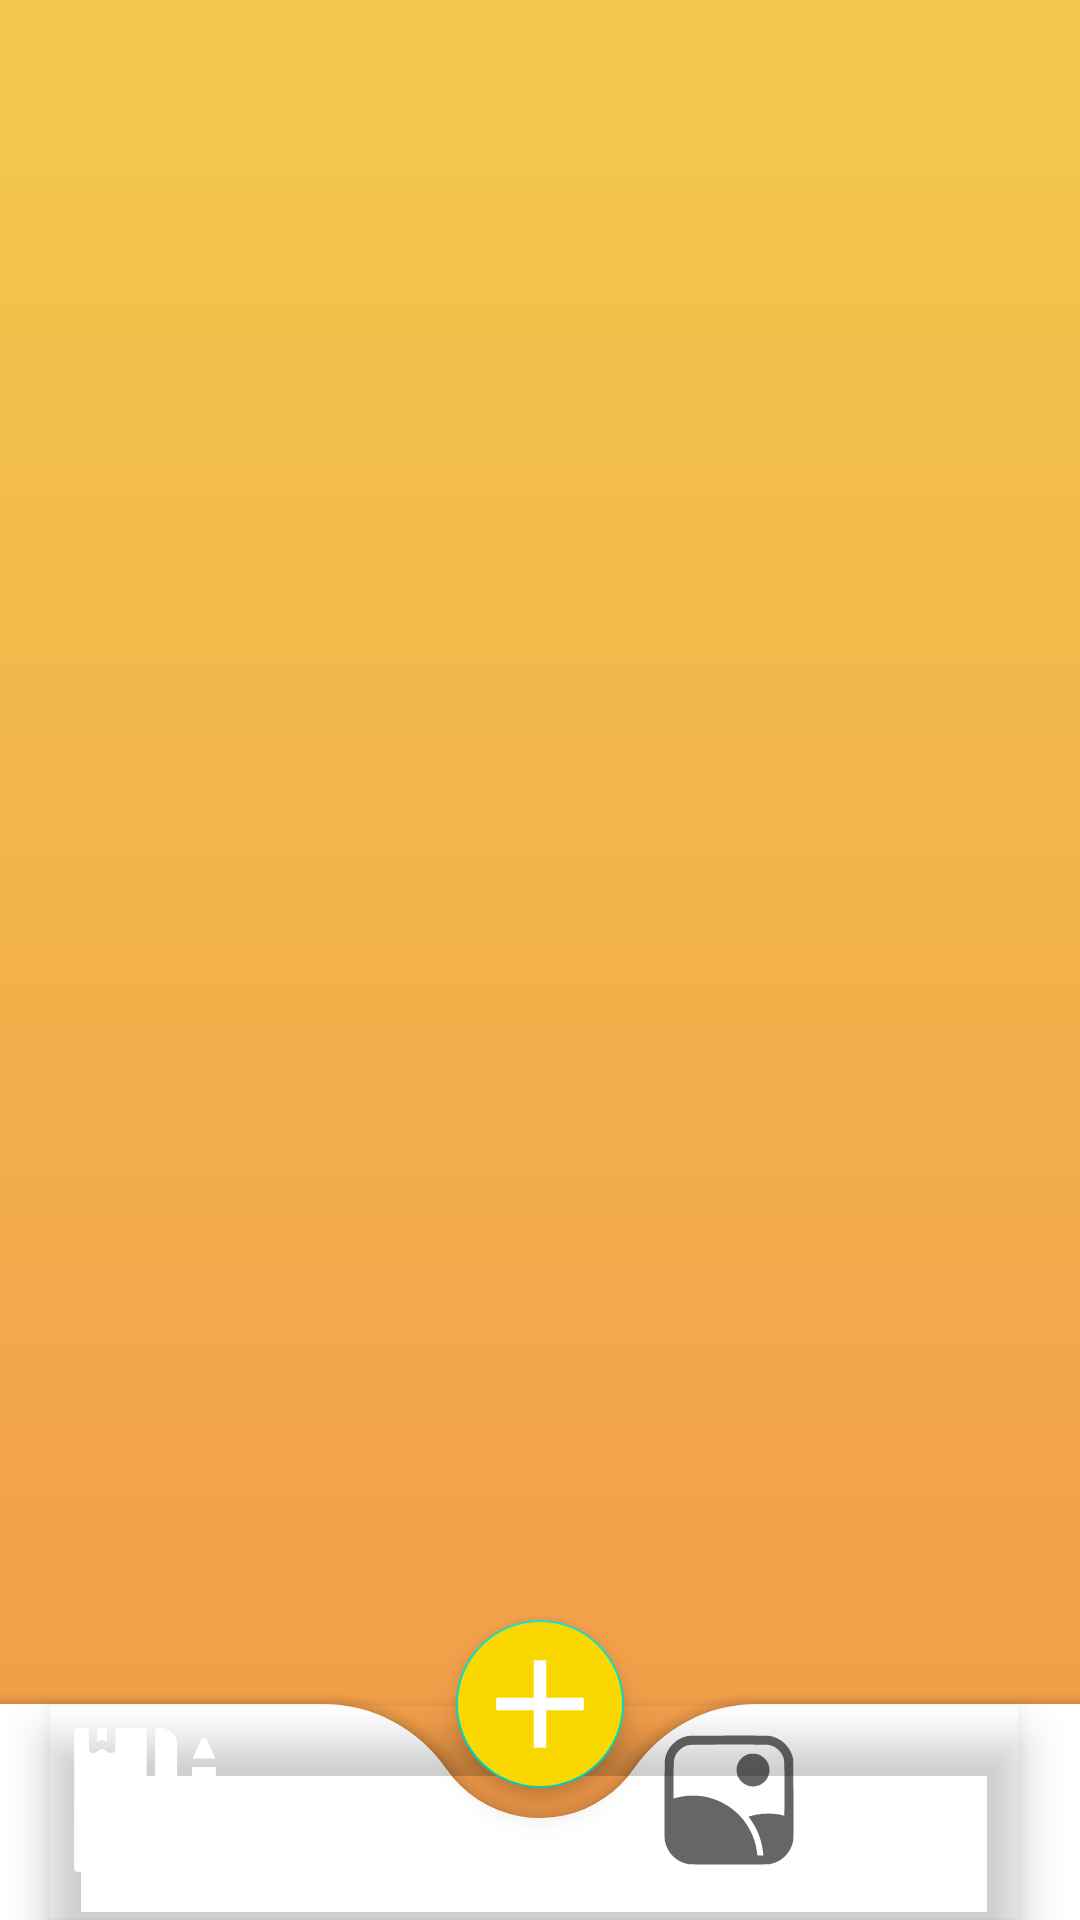

Where icons sit on this 1080px x 1920px app screen, as rect(x1, y1, x2, y2):
add: rect(456, 1620, 624, 1788)
